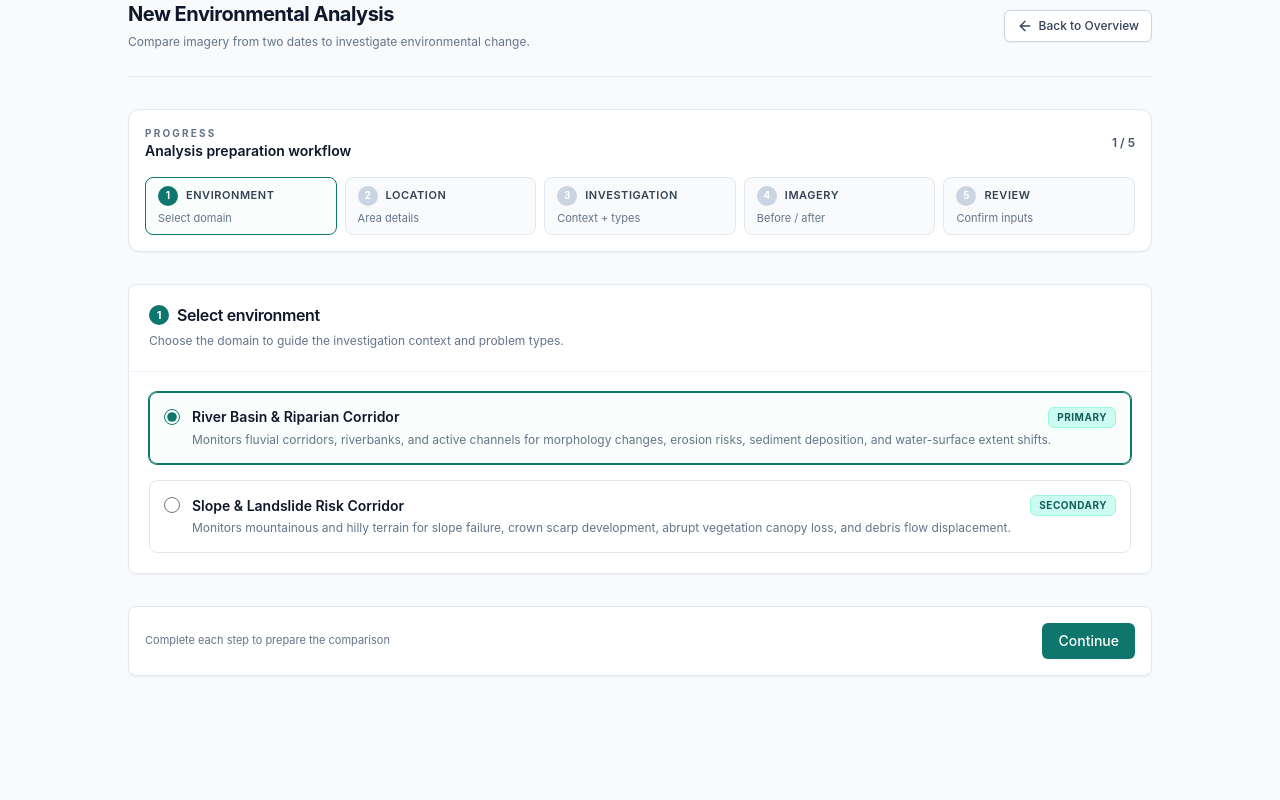
Scenario: NewAnalysisPage (Phase 3 workflow) › blocks invalid submissions and requires required location fields
This screenshot has width=1280, height=800.
Click the button "Continue" at (1089, 640), box [1042, 622, 1135, 658]
(page scrolled)
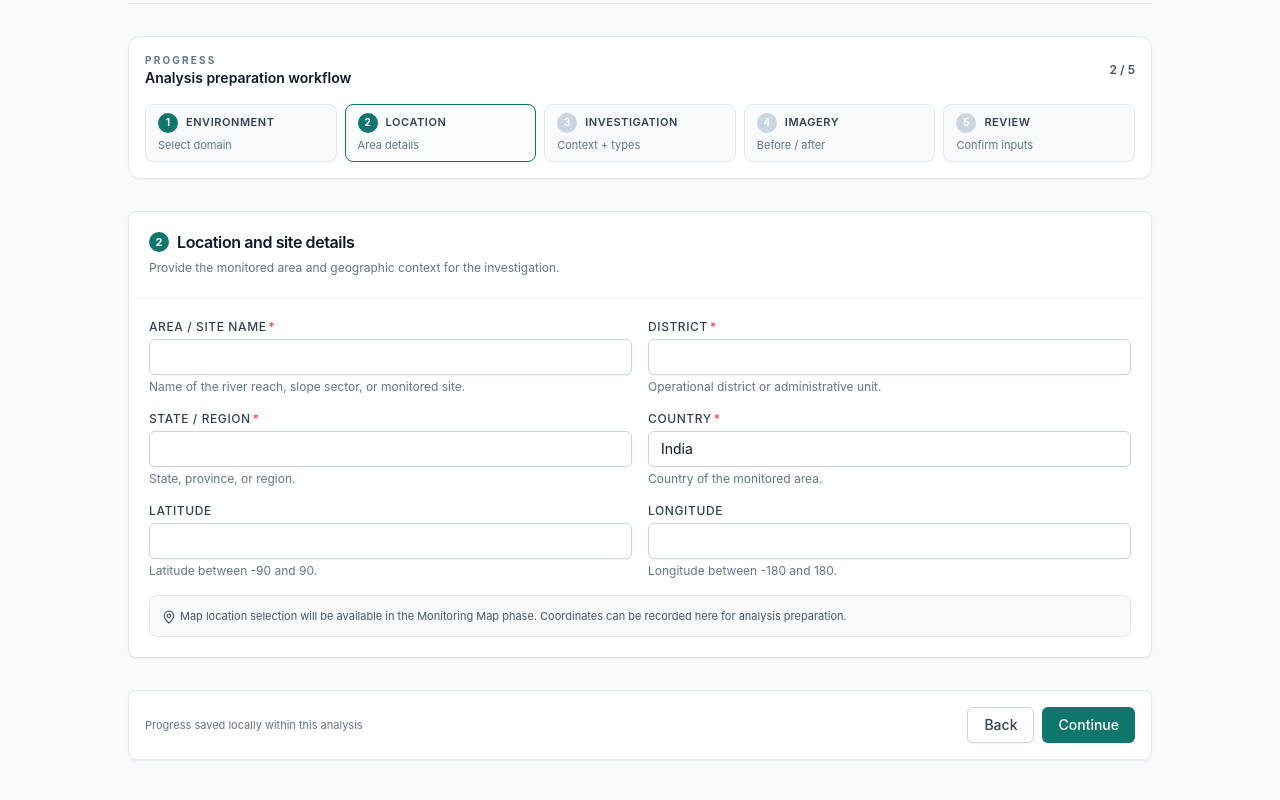
Click the button "Continue" at (1089, 725), box [1042, 707, 1135, 743]
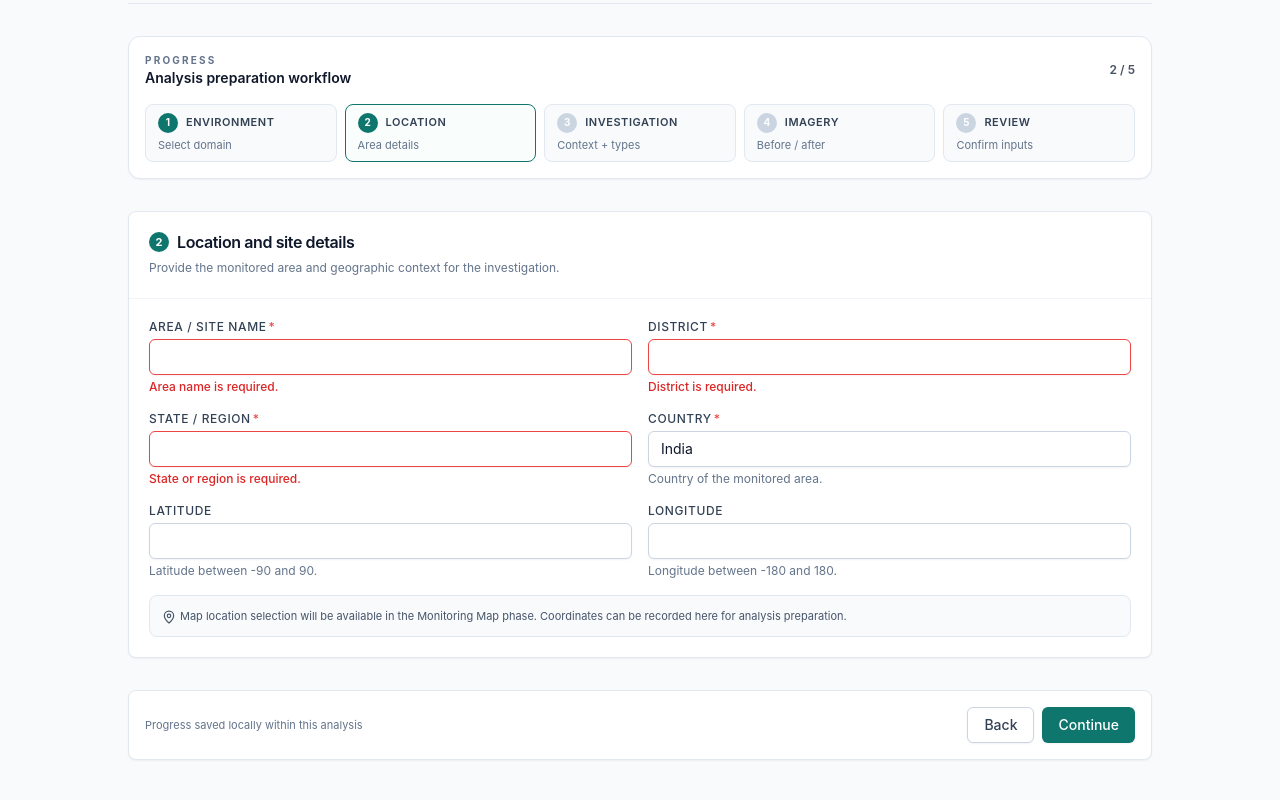
Expected: the text "District is required." is shown, [648, 378, 756, 394]
